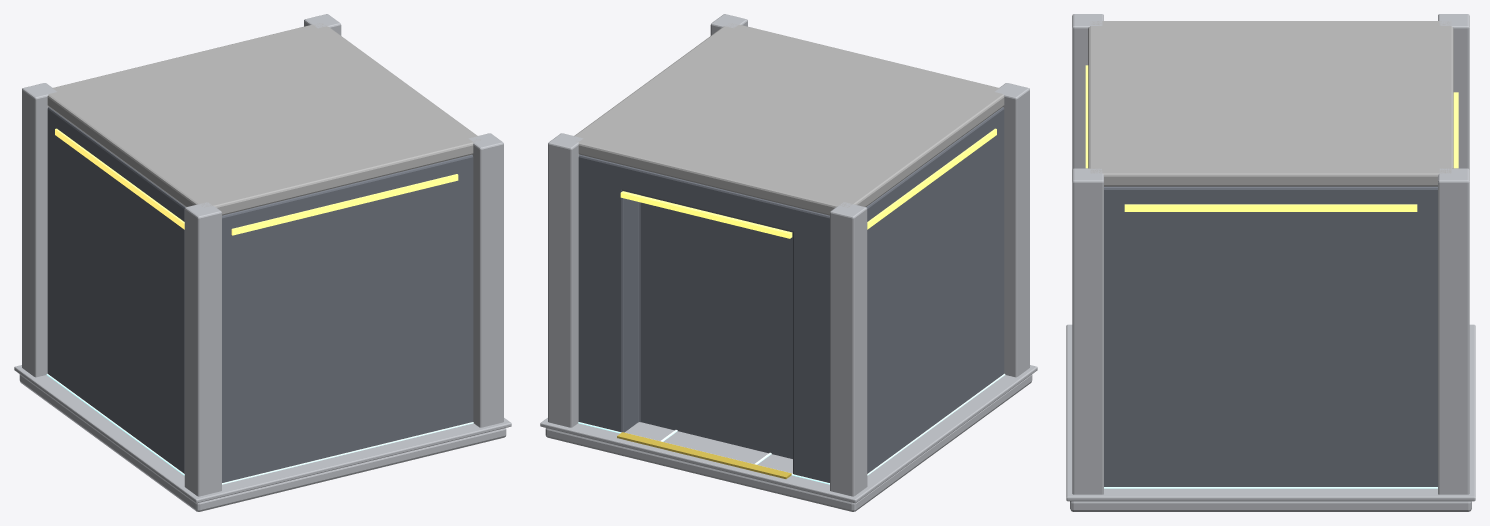
Rendered from hangar_3x3.glb.
3 views of the same model, side by side, from view 1: azimuth 30°, elevation 25°; view 2: azimuth 150°, elevation 25°; view 3: azimuth 270°, elevation 25° (orthographic). The views are drawn at different scales.
Parts seen in each view (by area): view 1: ext_wall, int_ceiling, int_columns, int_slab_edge, int_slab, ext_stripe3, ext_stripe2, int_grid; view 2: ext_wall, int_ceiling, int_columns, int_slab_edge, int_slab, ext_door_hazard, ext_door_glow, ext_stripe2, int_grid; view 3: ext_wall, int_ceiling, int_columns, int_slab_edge, int_slab, ext_stripe0, int_grid, ext_door_glow.
Part boxes in pixels (x1,y1,x2,y2): ext_wall: [47, 107, 473, 482]; int_ceiling: [47, 23, 480, 215]; int_columns: [22, 14, 503, 496]; int_slab_edge: [14, 365, 511, 503]; int_slab: [19, 374, 506, 511]; ext_stripe3: [231, 174, 458, 235]; ext_stripe2: [55, 128, 184, 229]; int_grid: [46, 373, 473, 484]; ext_wall: [578, 107, 1004, 482]; int_ceiling: [574, 23, 1004, 215]; int_columns: [548, 14, 1029, 496]; int_slab_edge: [540, 365, 1037, 503]; int_slab: [545, 374, 1032, 511]; ext_door_hazard: [617, 432, 791, 478]; ext_door_glow: [620, 191, 792, 238]; ext_stripe2: [867, 128, 996, 229]; int_grid: [578, 373, 1005, 484]; ext_wall: [1104, 186, 1437, 486]; int_ceiling: [1088, 21, 1453, 186]; int_columns: [1072, 14, 1469, 494]; int_slab_edge: [1066, 324, 1475, 501]; int_slab: [1070, 501, 1471, 511]; ext_stripe0: [1124, 204, 1417, 211]; int_grid: [1104, 487, 1437, 488]; ext_door_glow: [1453, 92, 1458, 168].
Bounding box in the file's own units: 3.36 × 3 × 3.36.
